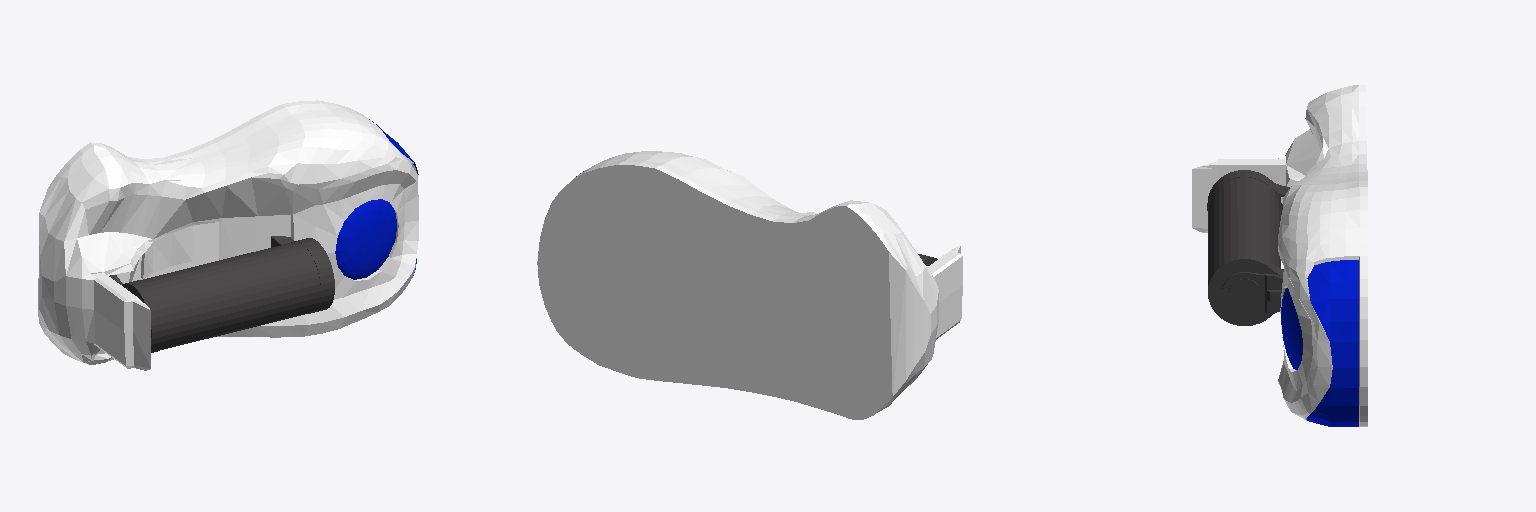
The picture shows the model from 3 angles: view 1: azimuth 30°, elevation 25°; view 2: azimuth 150°, elevation 25°; view 3: azimuth 270°, elevation 25°; orthographic projection.
Visible parts, largest first — view 1: LAnkleRoll_LFoot; view 2: LAnkleRoll_LFoot; view 3: LAnkleRoll_LFoot.
Boxes of the visible parts, x1=… form: LAnkleRoll_LFoot: x1=38, y1=100, x2=418, y2=370; LAnkleRoll_LFoot: x1=537, y1=151, x2=962, y2=419; LAnkleRoll_LFoot: x1=1192, y1=85, x2=1367, y2=426.
Size of the model in its own units: 1.6 by 0.9049 by 0.6467.
1 materials, 1 textured.